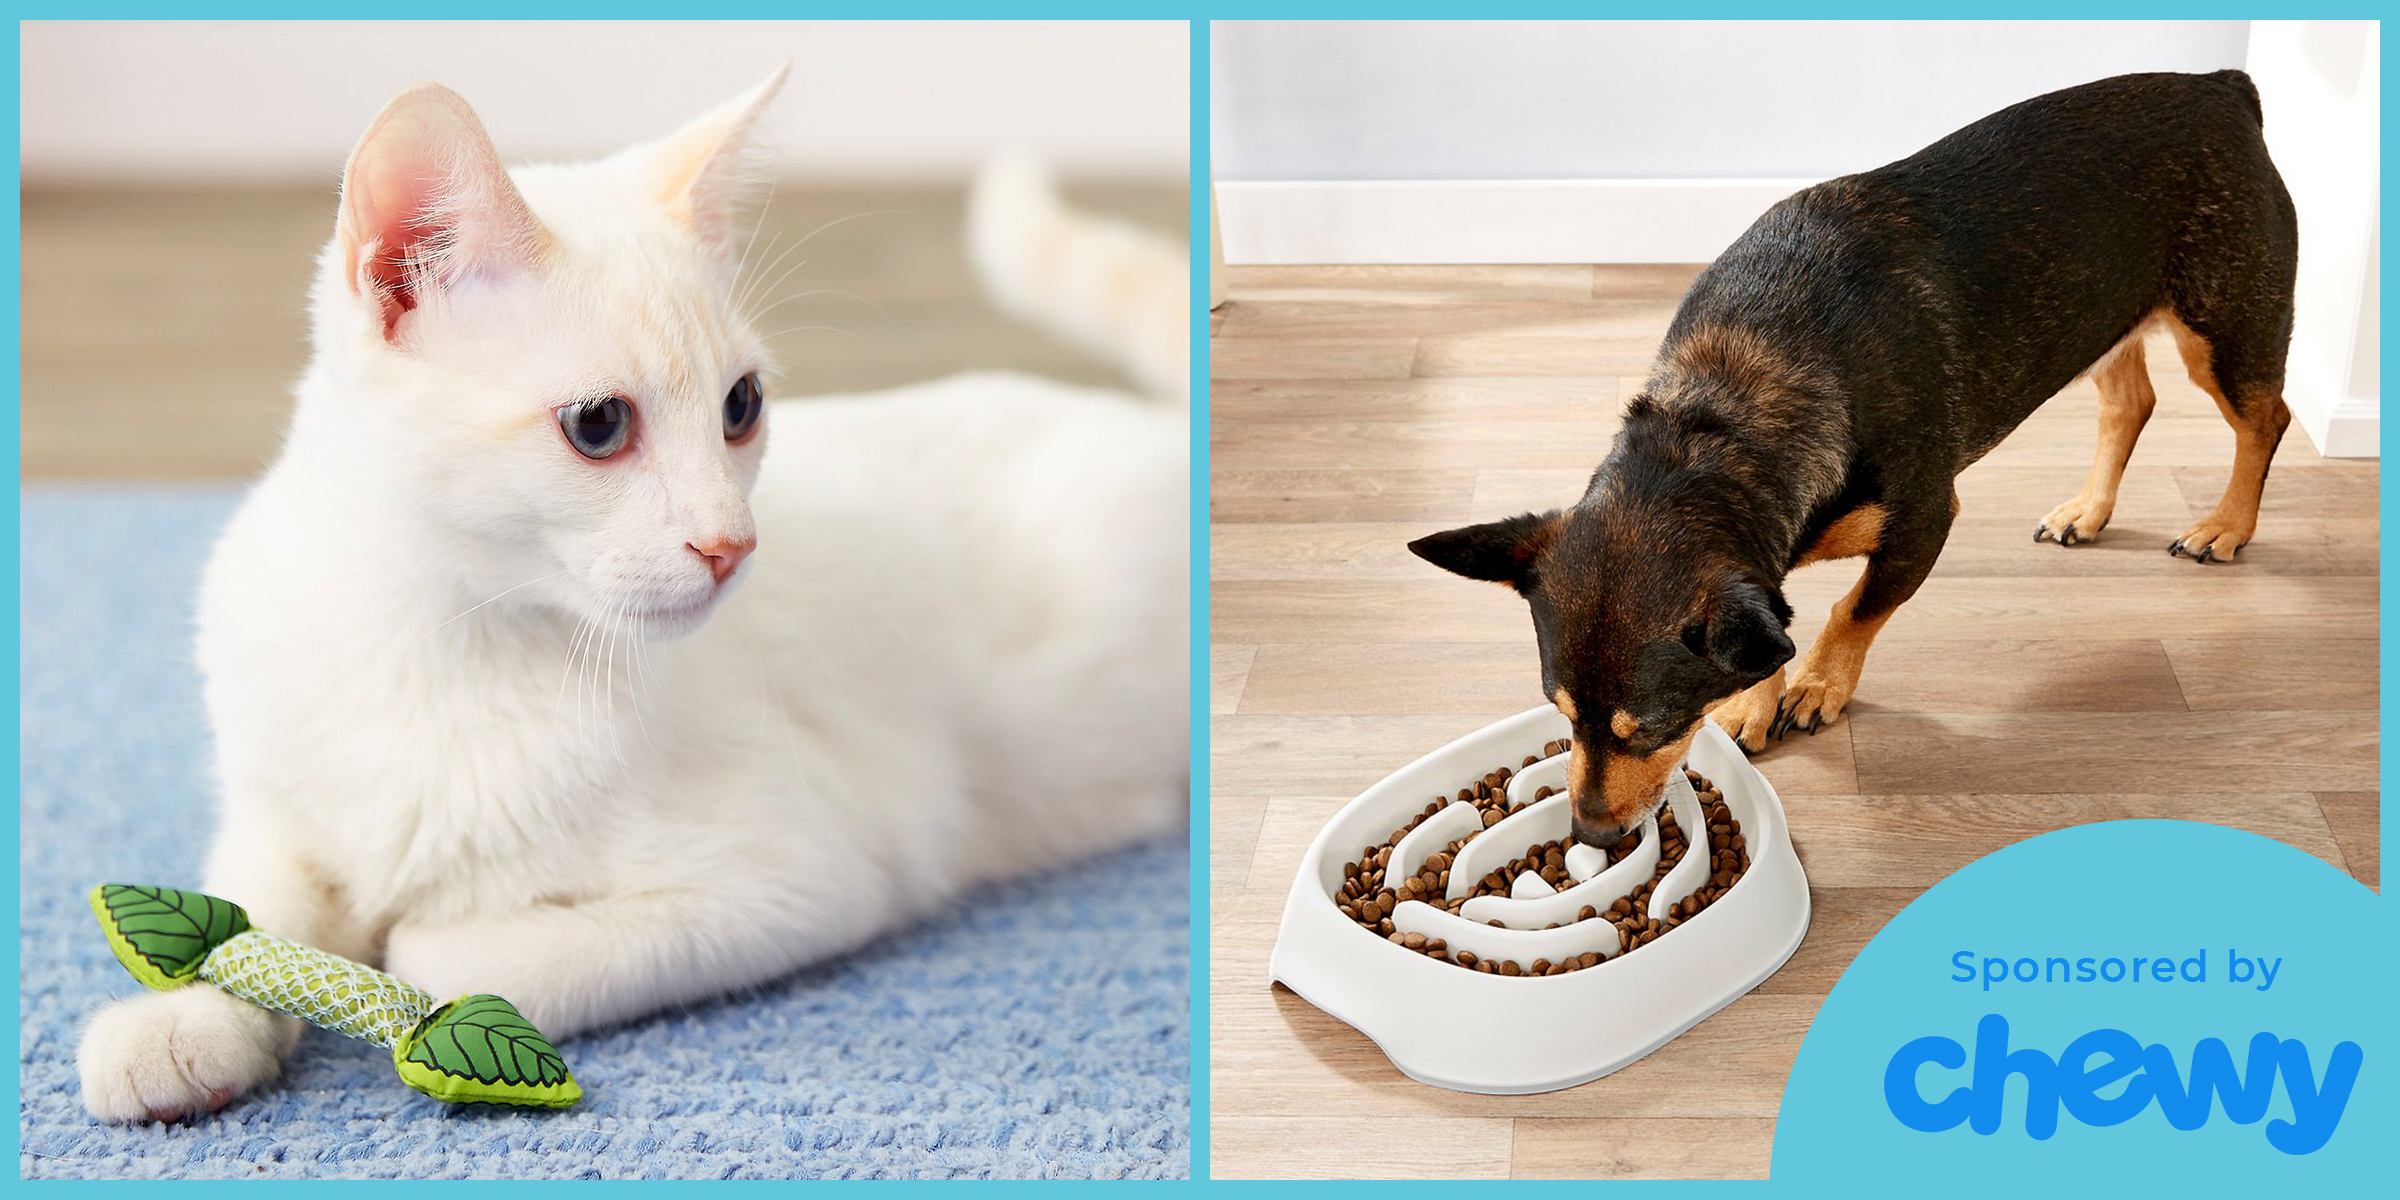pet: (208, 99, 1156, 1019)
